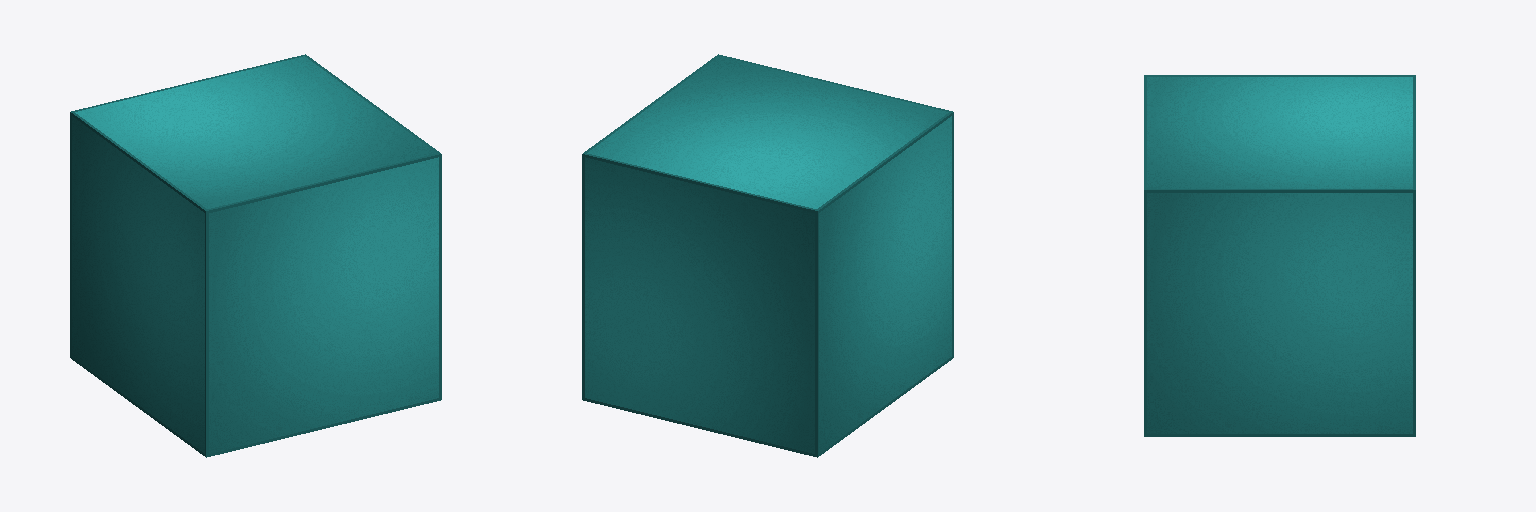
3 views of the same model, side by side, from view 1: azimuth 30°, elevation 25°; view 2: azimuth 150°, elevation 25°; view 3: azimuth 270°, elevation 25° (orthographic).
Bounding box in the file's own units: 0.4 × 0.4 × 0.4.
Materials: 1 (1 with a texture image).